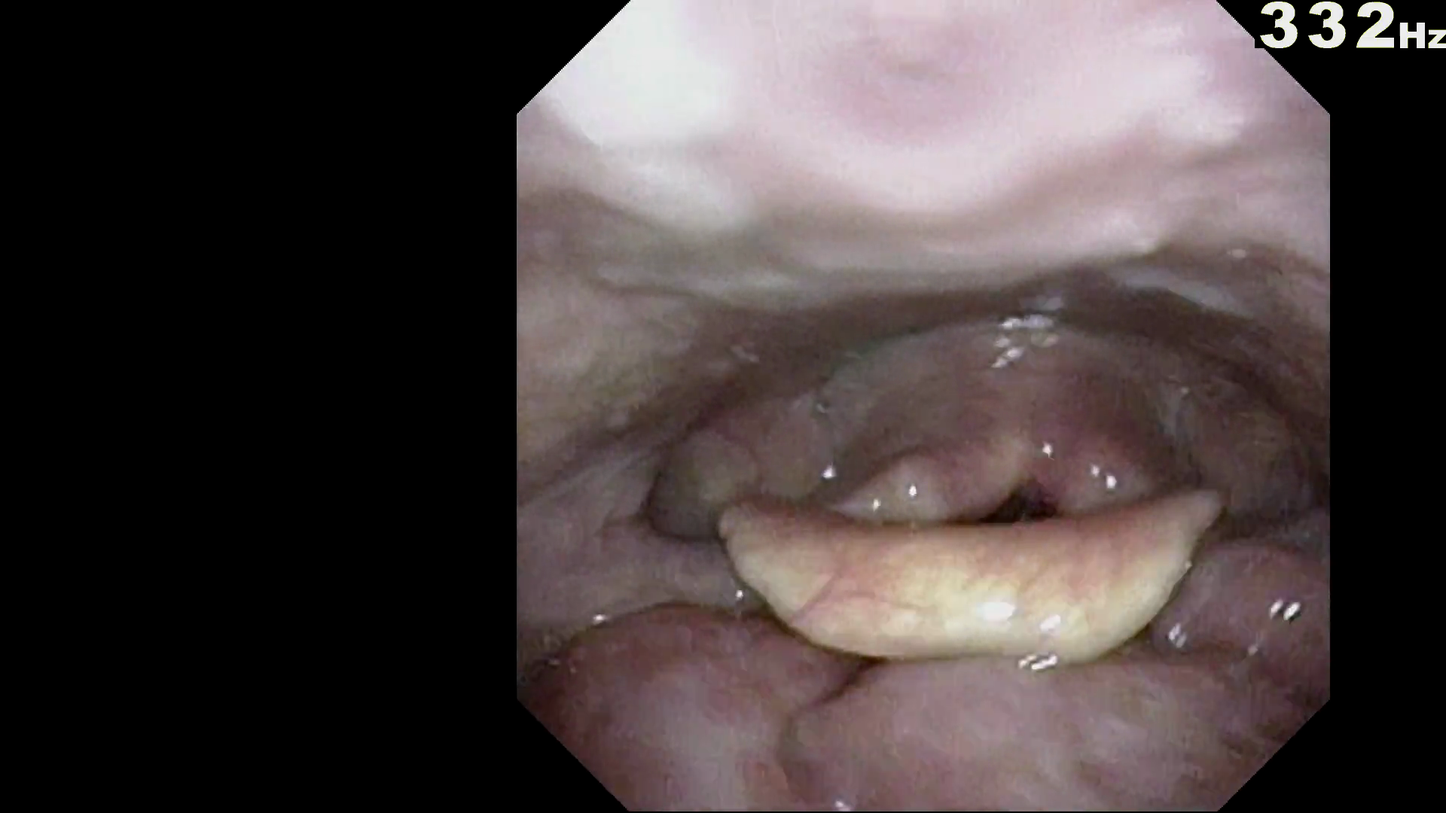epiglottis: (699, 512, 1241, 675)
trachea: (954, 465, 1072, 568)
